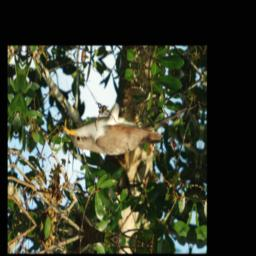Cuckoo: (59, 80, 169, 167)
